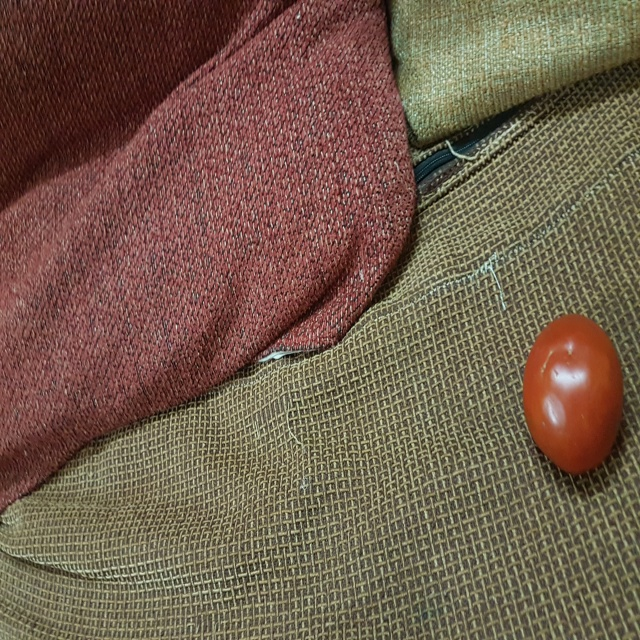tomato: (517, 310, 625, 480)
